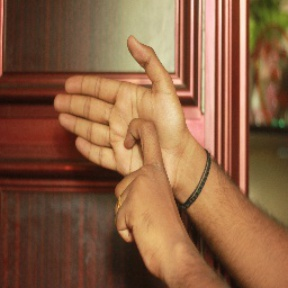R: (48, 35, 196, 216)
